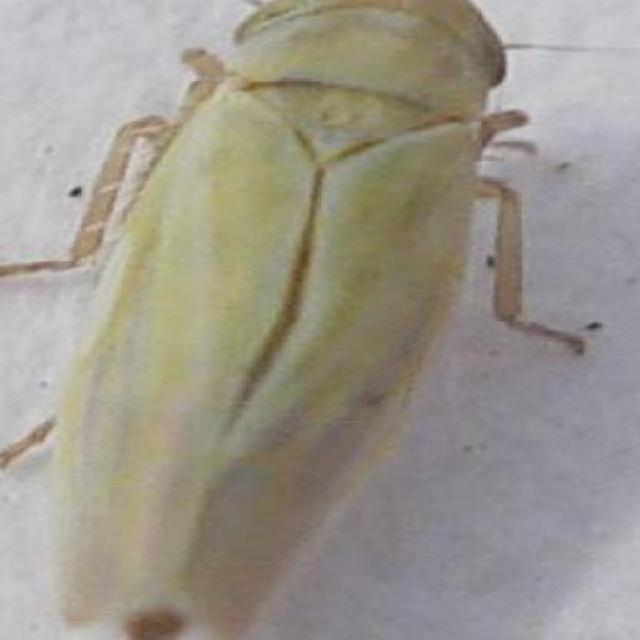green-leafhopper: (63, 1, 519, 640)
